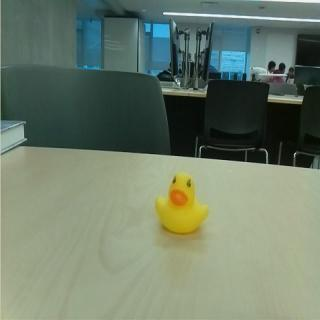duck_regular: (154, 173, 212, 236)
